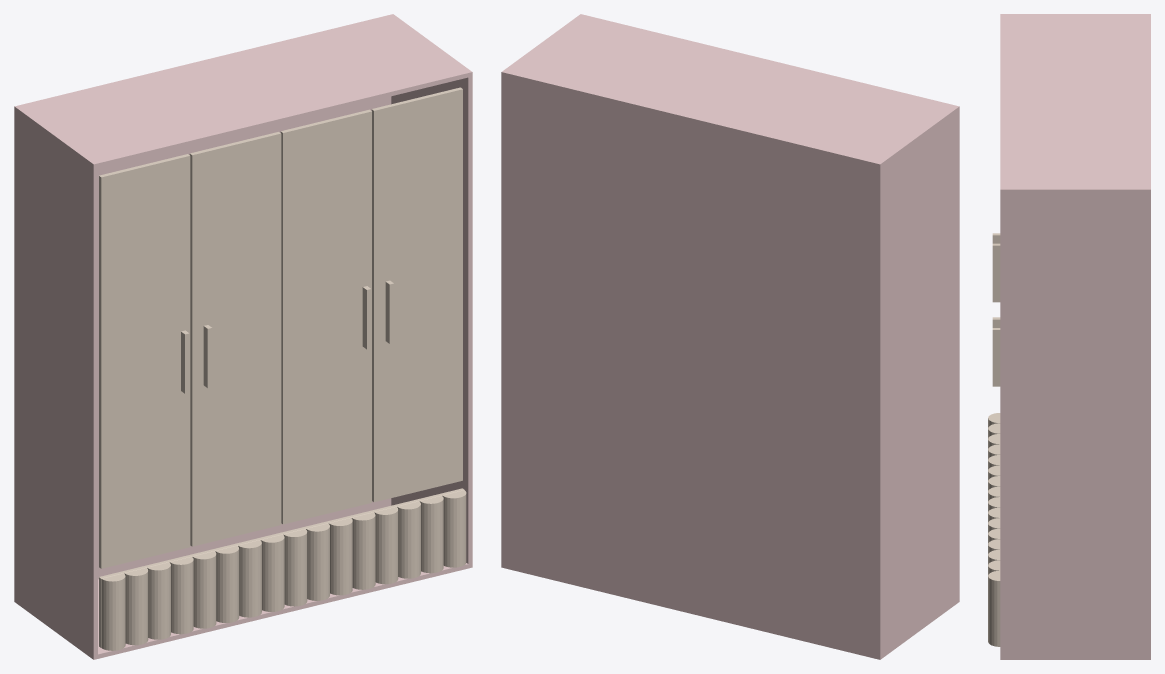
The model's file is hybridWardrobe.glb.
3 renders of one model, left to right at view 1: azimuth 30°, elevation 25°; view 2: azimuth 150°, elevation 25°; view 3: azimuth 270°, elevation 25°, orthographic. The views are drawn at different scales.
Visible parts, largest first — view 1: Left Side Panel, Door 2, Door 1, Door 4, Door 3, Top Panel, Plinth drawer, Back Panel, Right Side Panel, Base Supports; view 2: Back Panel, Left Side Panel, Top Panel, Right Side Panel, Base Supports; view 3: Right Side Panel, Top Panel, Plinth drawer, Back Panel, Door 2 handle, Door 4 handle, Left Side Panel.
Part boxes in pixels (x1,y1,x2,y2): Left Side Panel: [14, 105, 97, 659]; Door 2: [189, 132, 281, 546]; Door 1: [99, 154, 190, 568]; Door 4: [371, 87, 462, 502]; Door 3: [280, 109, 371, 524]; Top Panel: [15, 14, 471, 168]; Plinth drawer: [99, 488, 466, 650]; Back Panel: [14, 15, 395, 603]; Right Side Panel: [389, 14, 472, 568]; Base Supports: [14, 563, 472, 659]; Back Panel: [501, 73, 882, 659]; Left Side Panel: [876, 105, 959, 659]; Top Panel: [502, 14, 959, 168]; Right Side Panel: [501, 14, 583, 568]; Base Supports: [501, 563, 959, 659]; Right Side Panel: [1000, 187, 1150, 659]; Top Panel: [1000, 14, 1150, 193]; Plinth drawer: [988, 413, 1000, 646]; Back Panel: [1146, 14, 1150, 659]; Door 2 handle: [992, 243, 1000, 302]; Door 4 handle: [992, 328, 1000, 386]; Left Side Panel: [1000, 14, 1150, 15].
Bounding box in the file's own units: 1.6 × 2 × 0.627.
